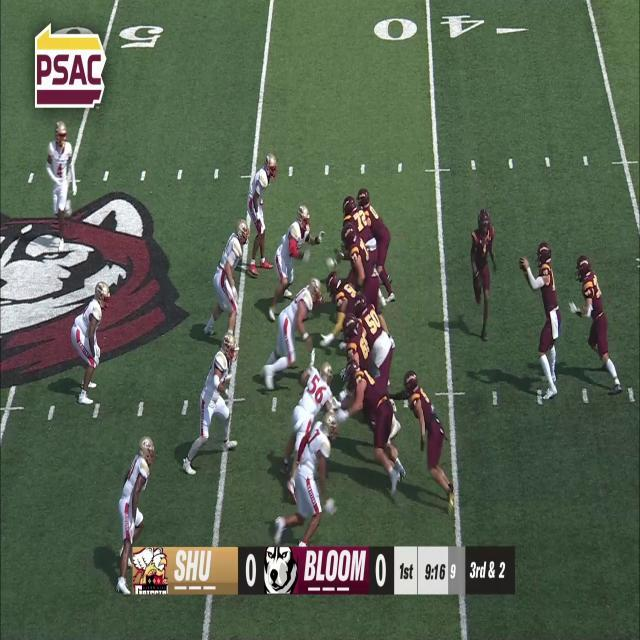football: (518, 254, 528, 270)
